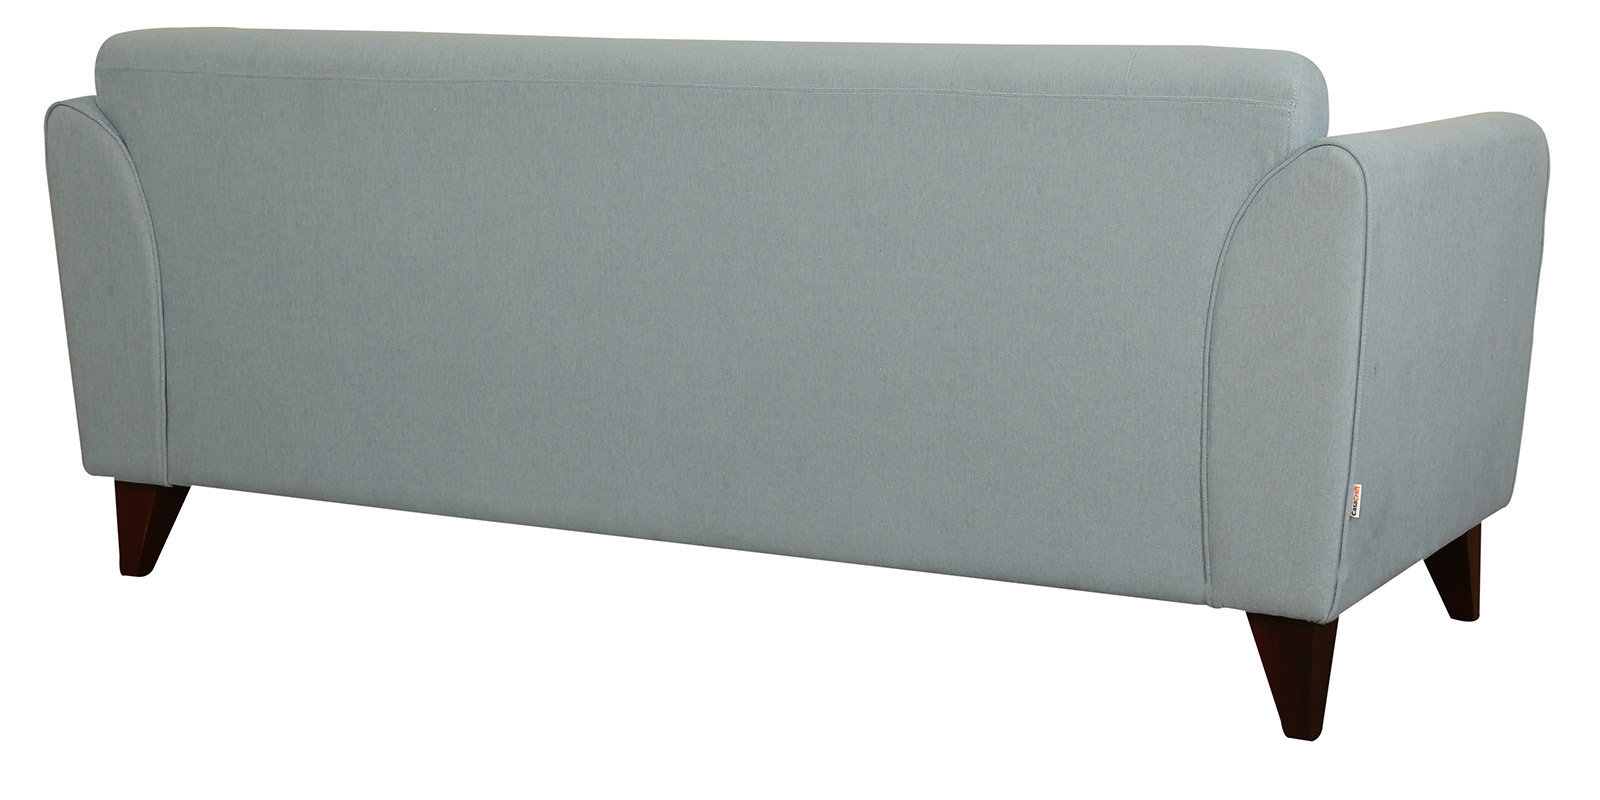Belem Three Seater Sofa in Ice Blue Color by CasaCraft: (14, 24, 1561, 708)
